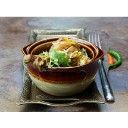briyani: (30, 39, 83, 65)
